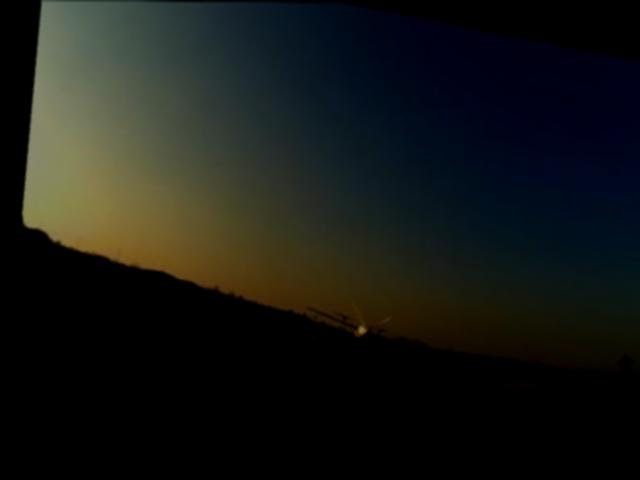uav: (283, 291, 428, 363)
